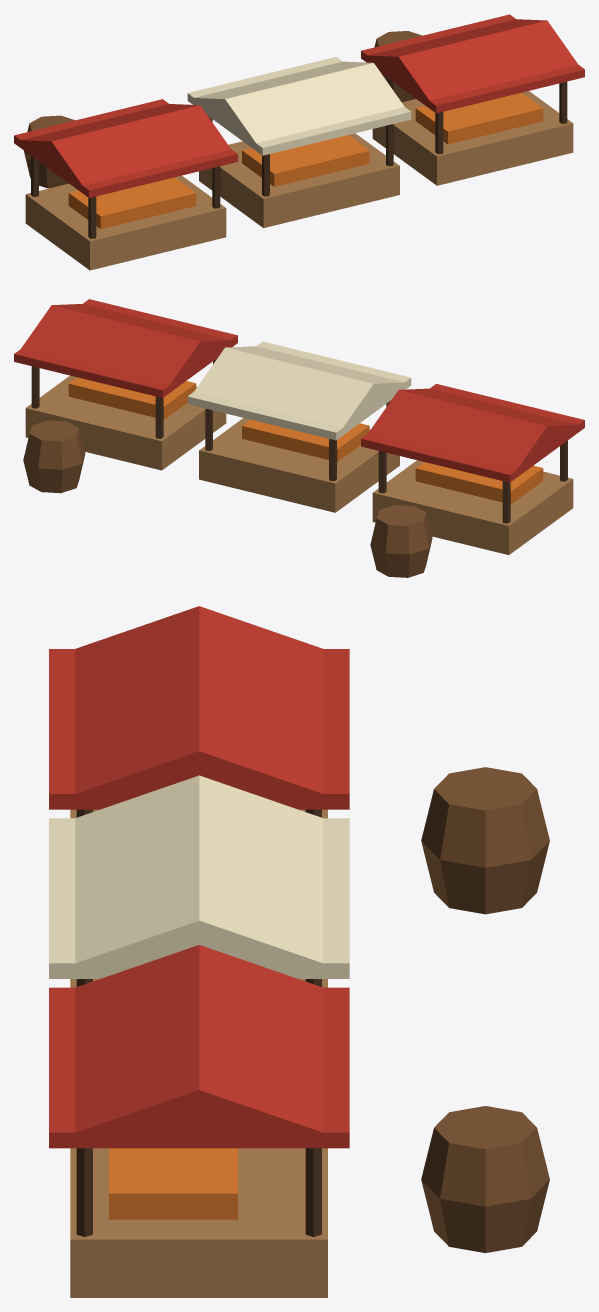
The model's file is building_market.fbx.
3 views of the same model, one above another, from view 1: azimuth 30°, elevation 25°; view 2: azimuth 150°, elevation 25°; view 3: azimuth 270°, elevation 25° (orthographic). The views are drawn at different scales.
Visible parts, largest first — view 1: building_market; view 2: building_market; view 3: building_market.
Boxes of the visible parts, <box> form: building_market: <box>14,14,584,270</box>; building_market: <box>14,299,584,577</box>; building_market: <box>49,606,549,1297</box>.
Bounding box in the file's own units: 80 × 16.5 × 35.
